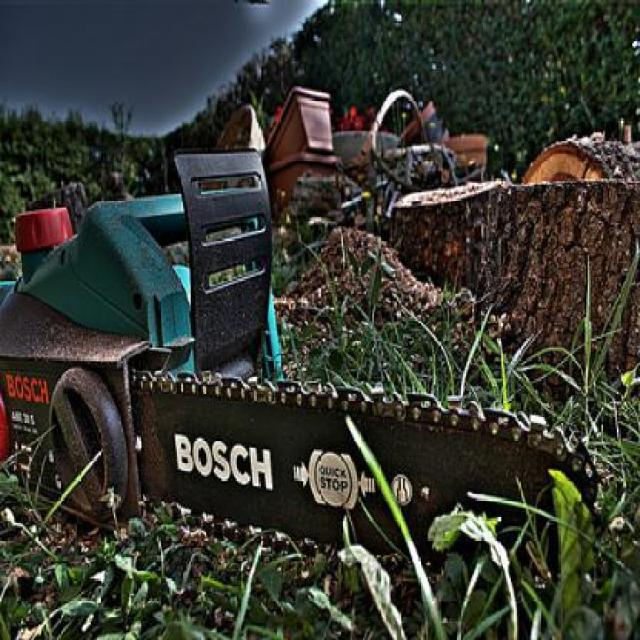Chainsaw: (1, 152, 607, 594)
